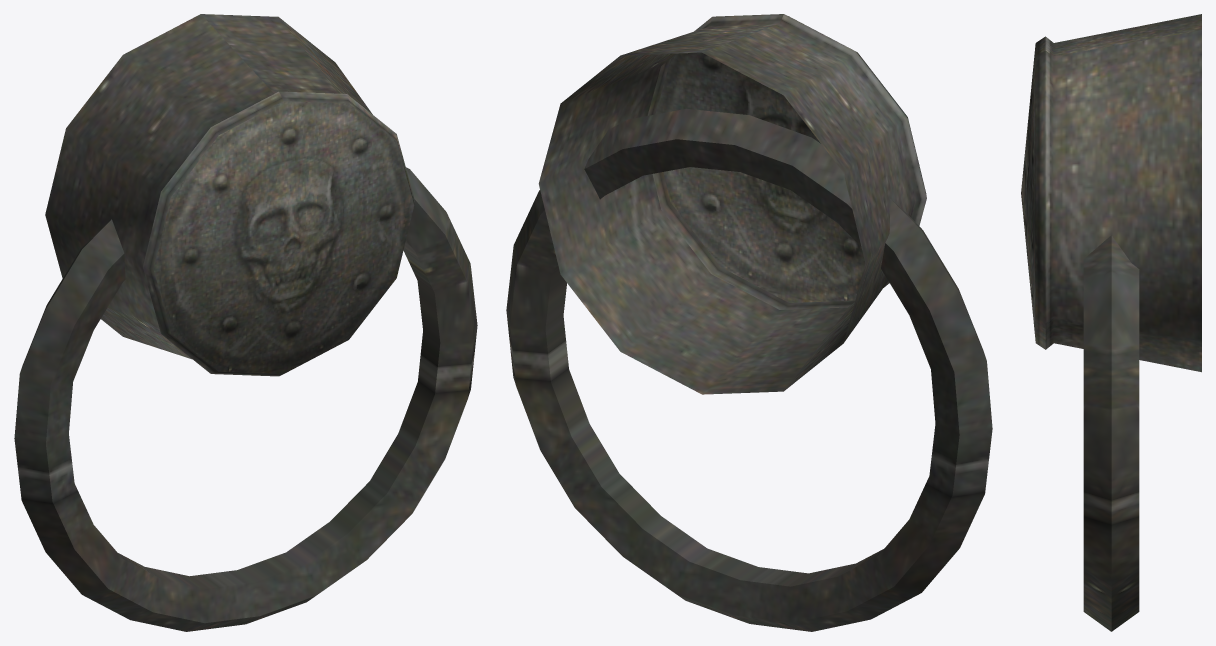
Rendered from ring.fbx.
3 views of the same model, side by side, from view 1: azimuth 30°, elevation 25°; view 2: azimuth 150°, elevation 25°; view 3: azimuth 270°, elevation 25° (orthographic). The views are drawn at different scales.
Parts seen in each view (by area): view 1: Mesh Object; view 2: Mesh Object; view 3: Mesh Object.
Boxes of the visible parts, box(x1,y1,x2,y2) form: Mesh Object: box(14, 14, 477, 631); Mesh Object: box(506, 14, 992, 631); Mesh Object: box(1021, 14, 1201, 631).
Bounding box in the file's own units: 0.4726 × 0.5629 × 0.1598.
